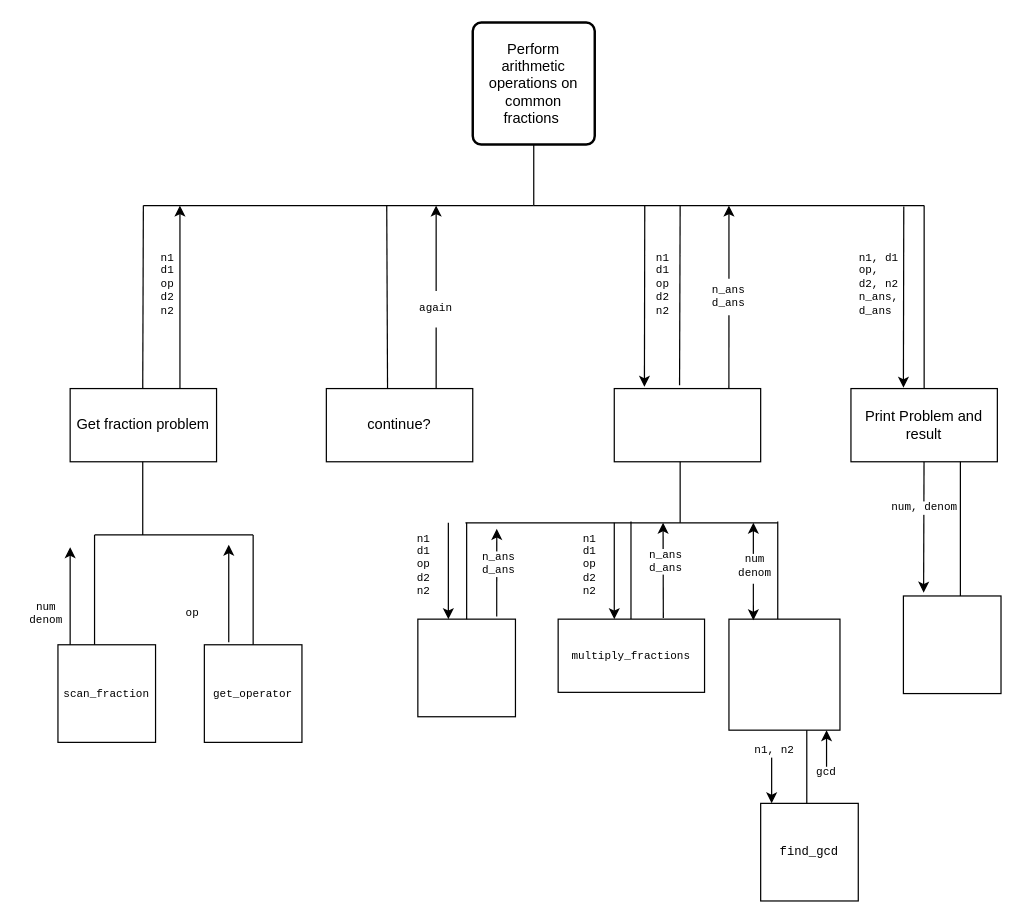
Image size: 1022x922. Some labels were removed from this diagram. Here are the shapes that lost their labels. From the top down, the centre of each, then its label:
At (687,424): "Compare result".
At (951,644): "print_fraction".
At (466,667): "add_fractions".
At (784,674): "reduce_fraction".
